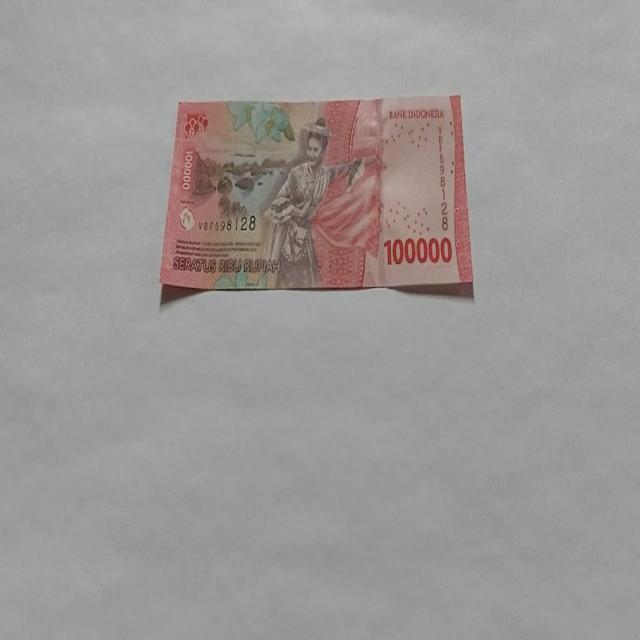seratus ribu rupiah: (158, 94, 474, 299), (258, 115, 366, 288)
